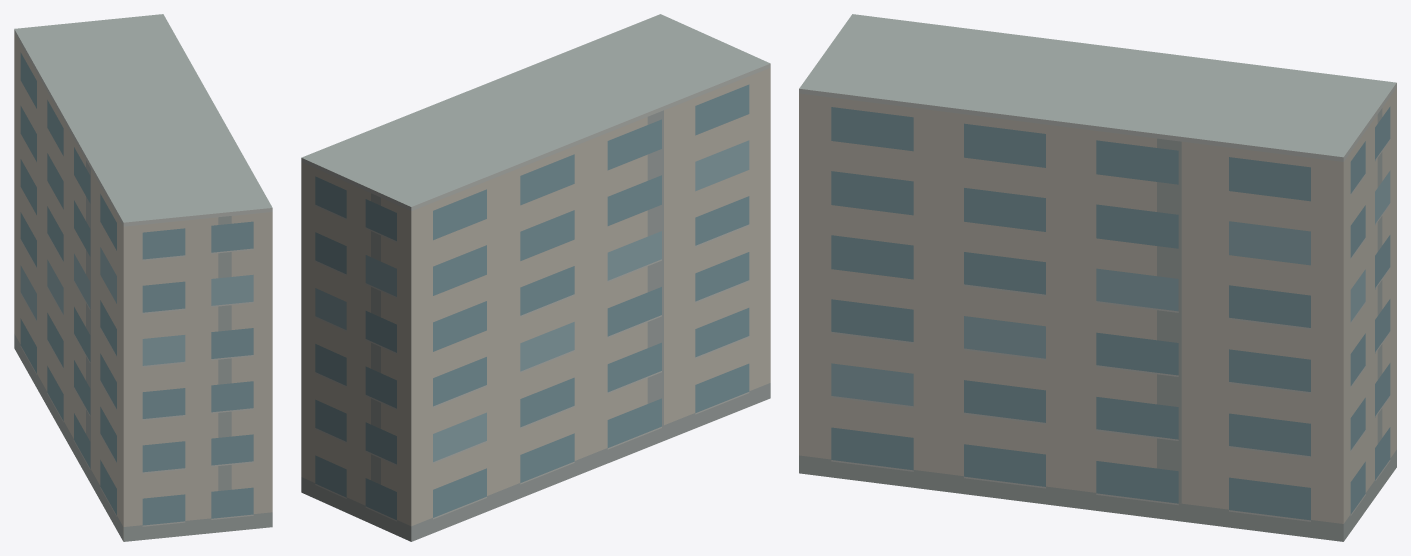
Rendered from survey-upis-32880939.glb.
3 views of the same model, side by side, from view 1: azimuth 30°, elevation 25°; view 2: azimuth 150°, elevation 25°; view 3: azimuth 270°, elevation 25° (orthographic). The views are drawn at different scales.
Visible parts, largest first — view 1: survey-upis-32880939.tmp; view 2: survey-upis-32880939.tmp; view 3: survey-upis-32880939.tmp.
Boxes of the visible parts, <box> form: survey-upis-32880939.tmp: <box>14,14,272,541</box>; survey-upis-32880939.tmp: <box>301,14,770,541</box>; survey-upis-32880939.tmp: <box>799,14,1396,541</box>.
Size of the model in its own units: 15.75 by 19.7 by 27.76.
